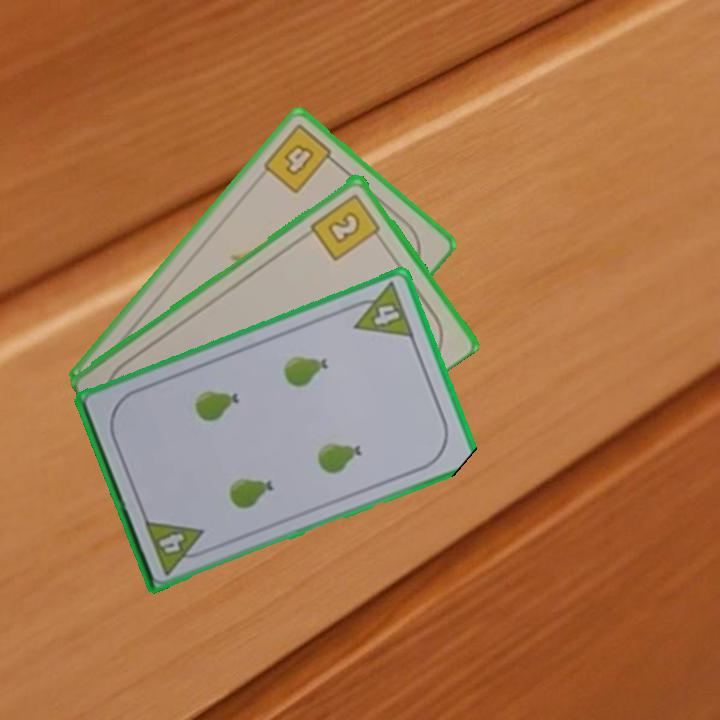2b: (307, 189, 386, 263)
4b: (259, 120, 342, 196)
4p: (343, 278, 417, 341), (141, 515, 212, 578)
